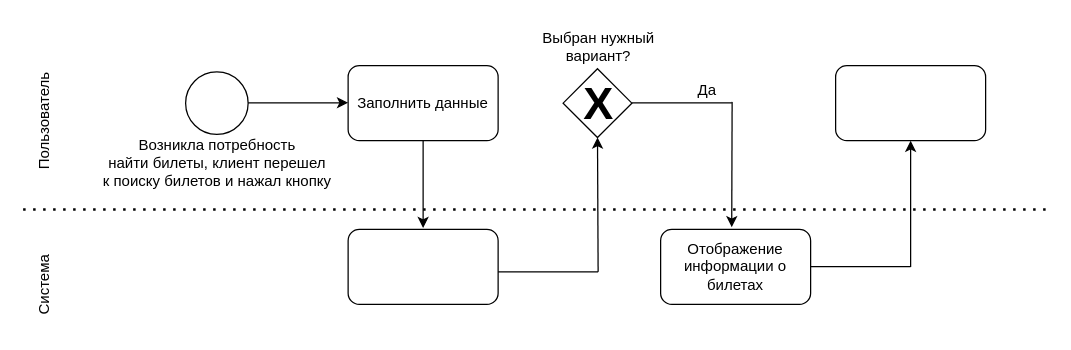
The diagram is 1071 pixels wide and 350 high, and some of its shapes have lost their labels. The shapes that lost their labels are listed below. From the top down, each one's centre as x and y in pixels, then its label:
[910,102]: Переход к покупке билетов
[422,266]: Отображение доступных вариантов для отпуска
